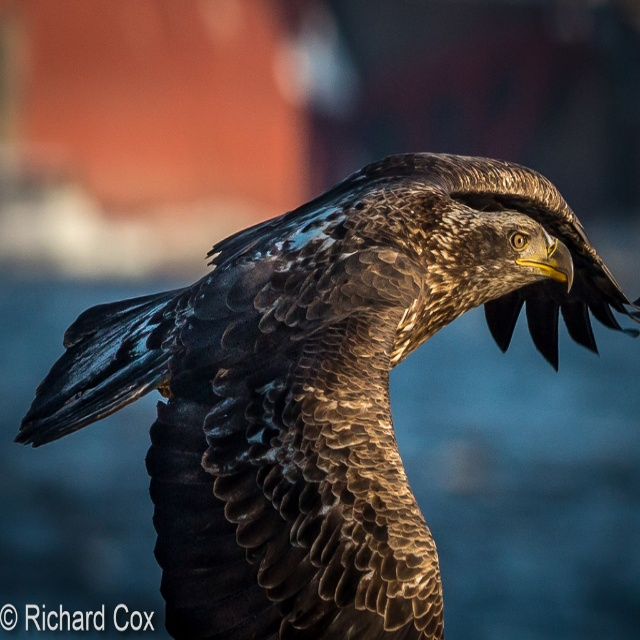Eagle: (13, 150, 640, 639)
